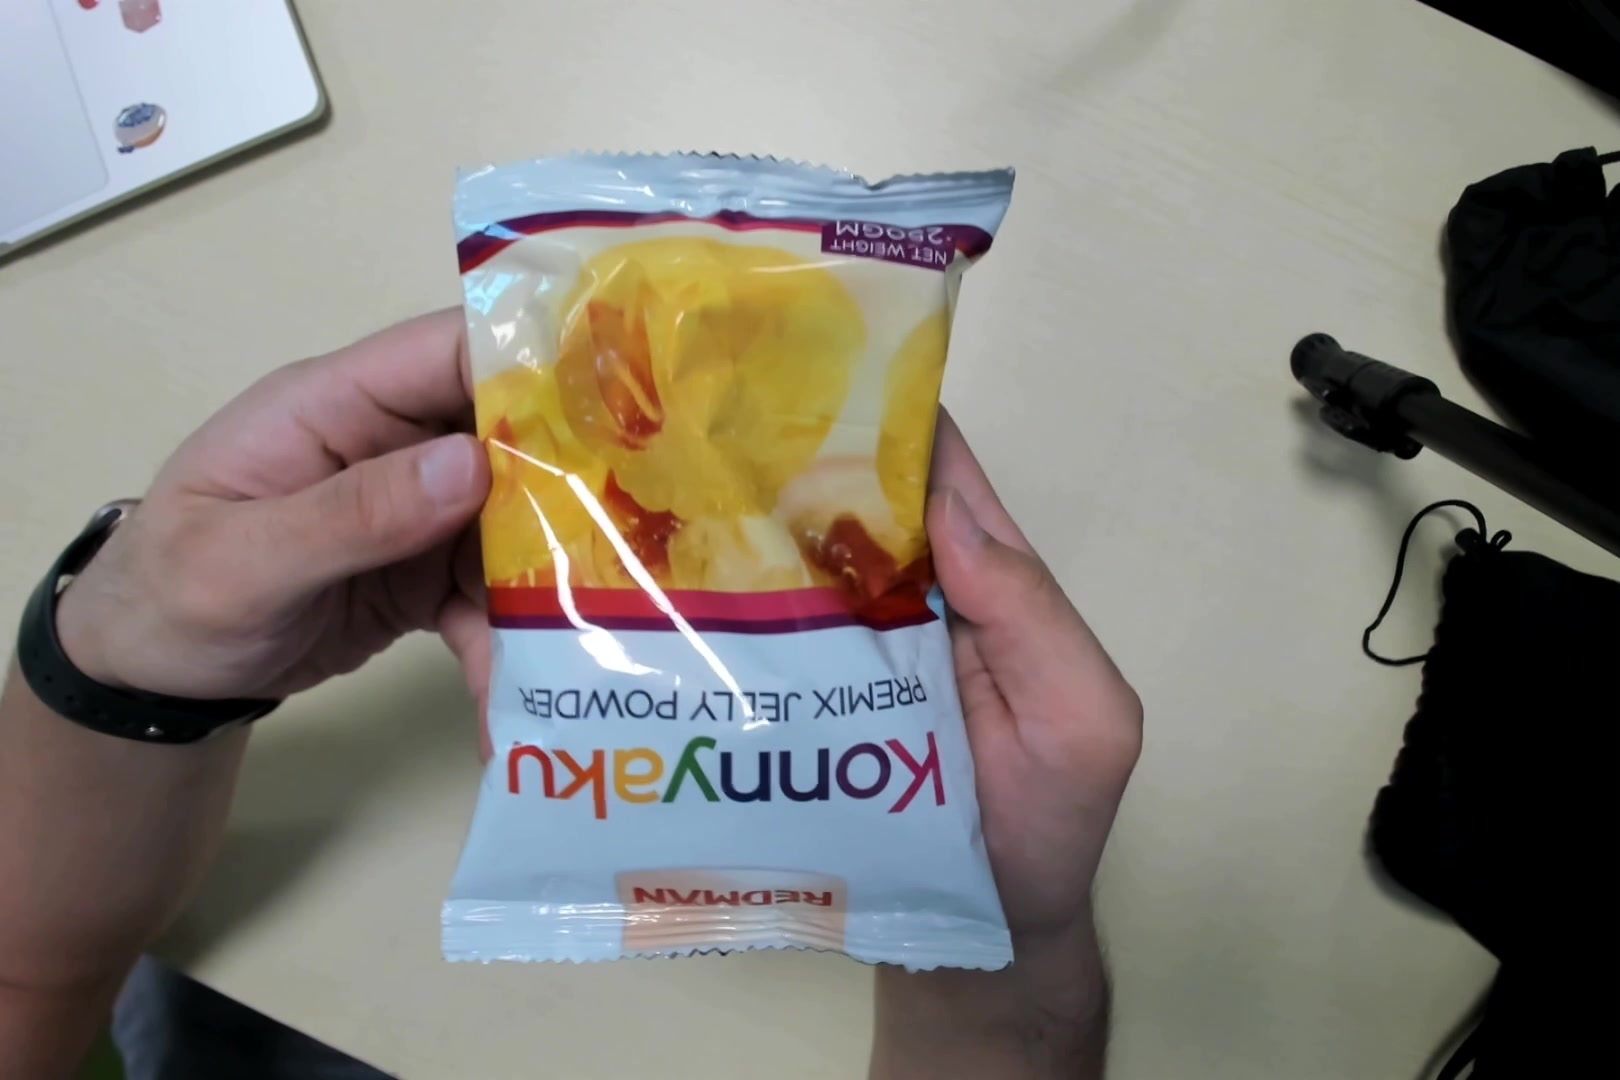OtherBakingNeeds_200-299g_Halal_NonHealthy: (452, 149, 1011, 973)
